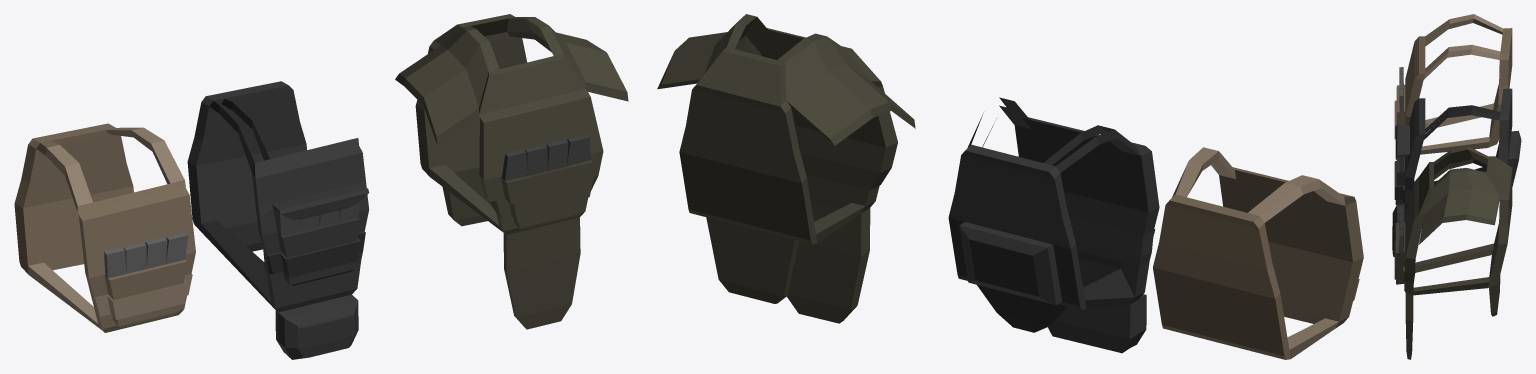
File: cevlarVests.fbx
3 views of the same model, side by side, from view 1: azimuth 30°, elevation 25°; view 2: azimuth 150°, elevation 25°; view 3: azimuth 270°, elevation 25° (orthographic). The views are drawn at different scales.
Visible parts, largest first — view 1: Cube.005, Cube.003, Cube.004; view 2: Cube.005, Cube.003, Cube.004; view 3: Cube.005, Cube.004, Cube.003.
Boxes of the visible parts, box(x1,y1,x2,y2) form: Cube.005: box(395, 14, 628, 329); Cube.003: box(187, 81, 369, 359); Cube.004: box(14, 123, 195, 332); Cube.005: box(657, 14, 915, 323); Cube.003: box(948, 97, 1159, 353); Cube.004: box(1153, 147, 1363, 359); Cube.005: box(1394, 146, 1512, 359); Cube.004: box(1394, 14, 1512, 154); Cube.003: box(1392, 88, 1521, 256).
Size of the model in its own units: 330 by 156 by 93.48.
